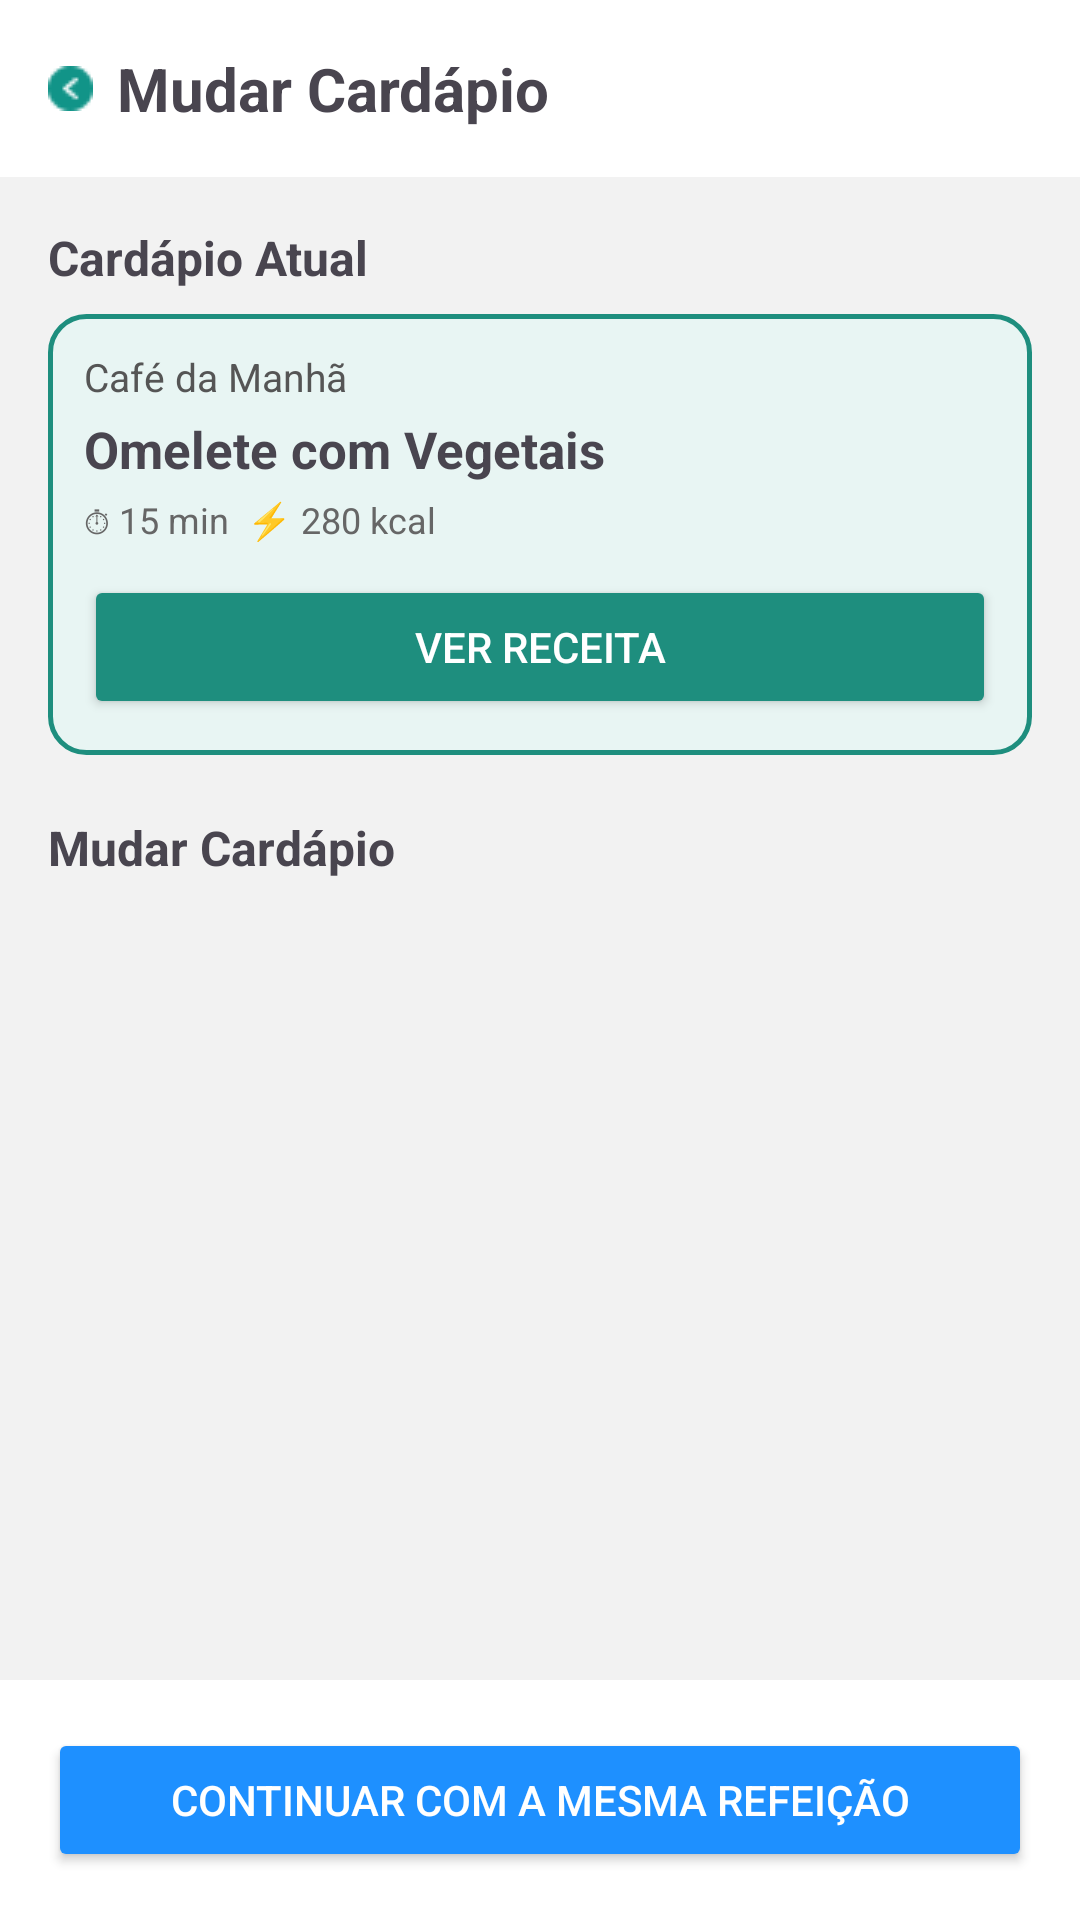

Where icons sit on this 1080 × 1920 app screen, as (x1, y1, x2, y2):
Voltar: (48, 66, 93, 111)
